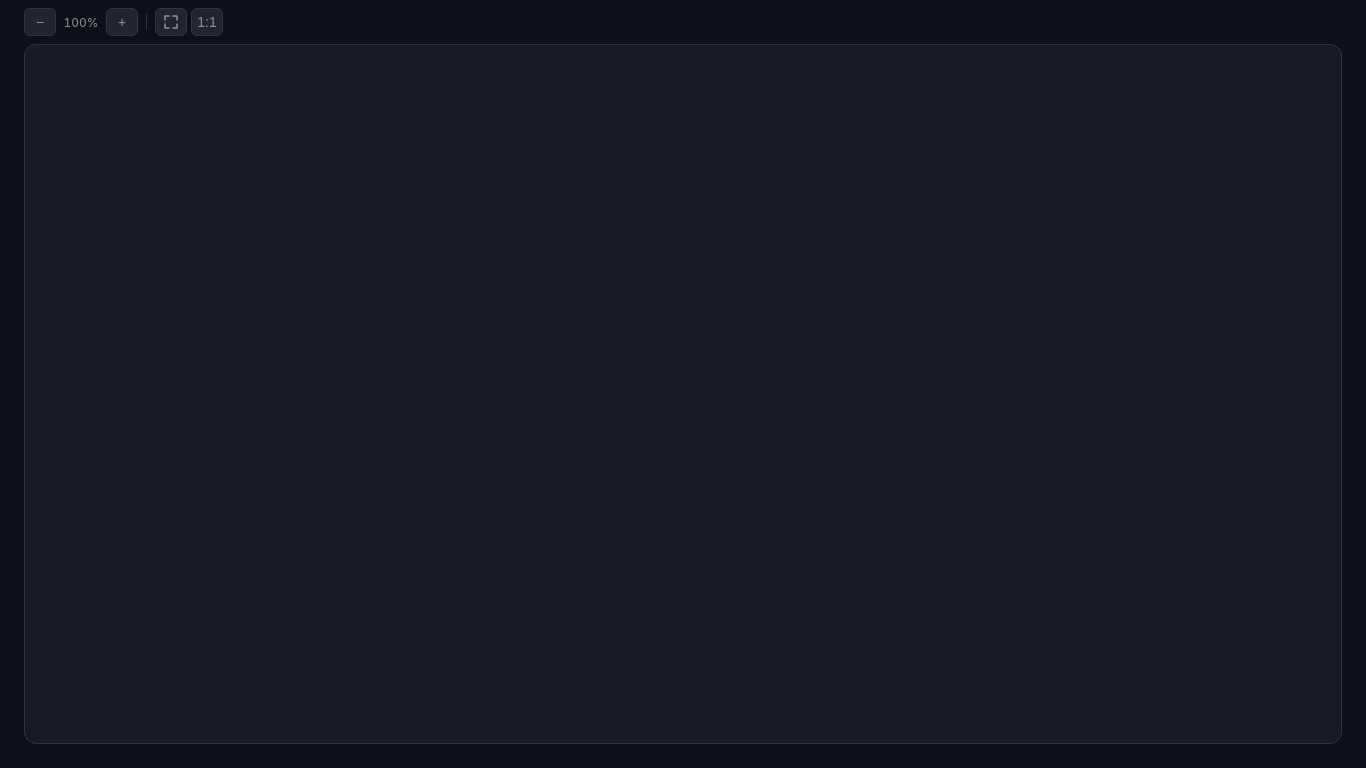
Test case: Diagram › reset button returns to 100%
This screenshot has width=1366, height=768.
Click the button titled "Zoom in" at (122, 22), box [106,8,138,36]
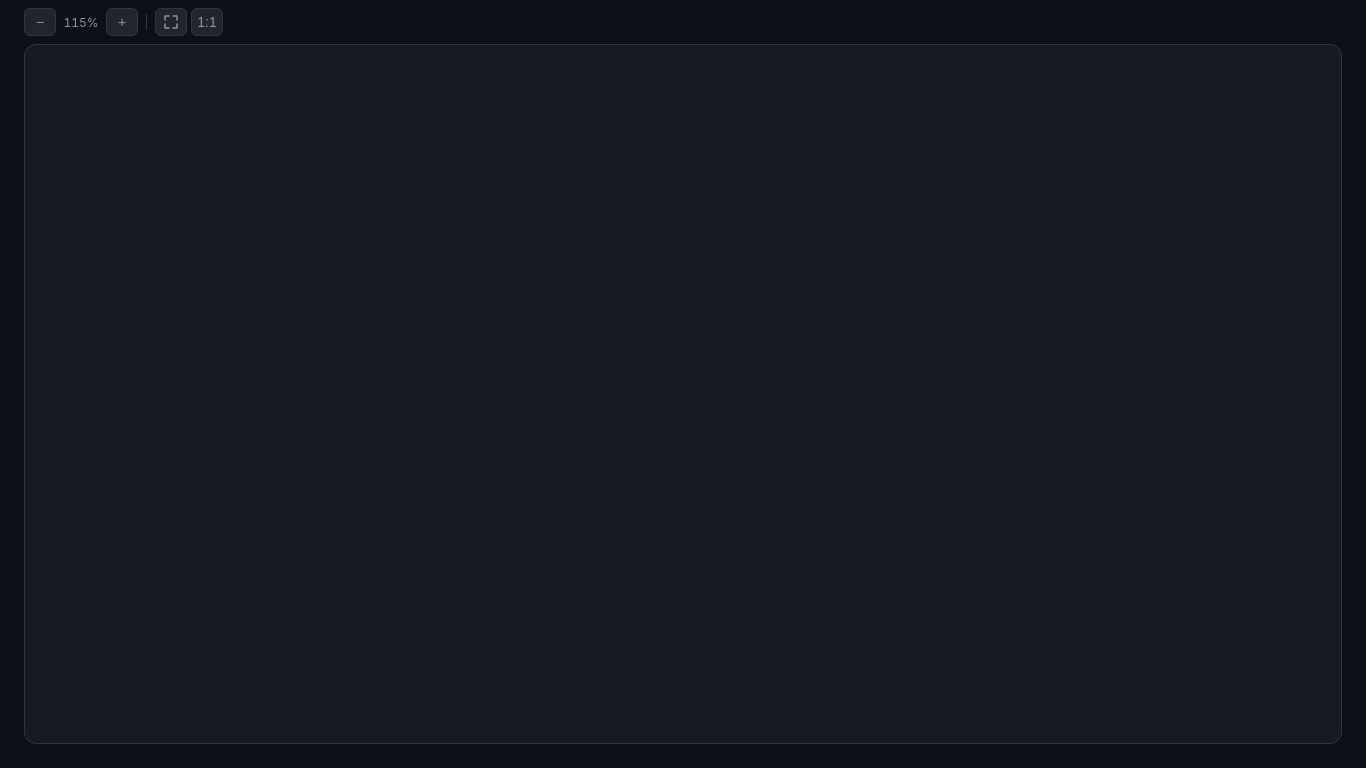
Click the button titled "Zoom in" at (122, 22), box [106,8,138,36]
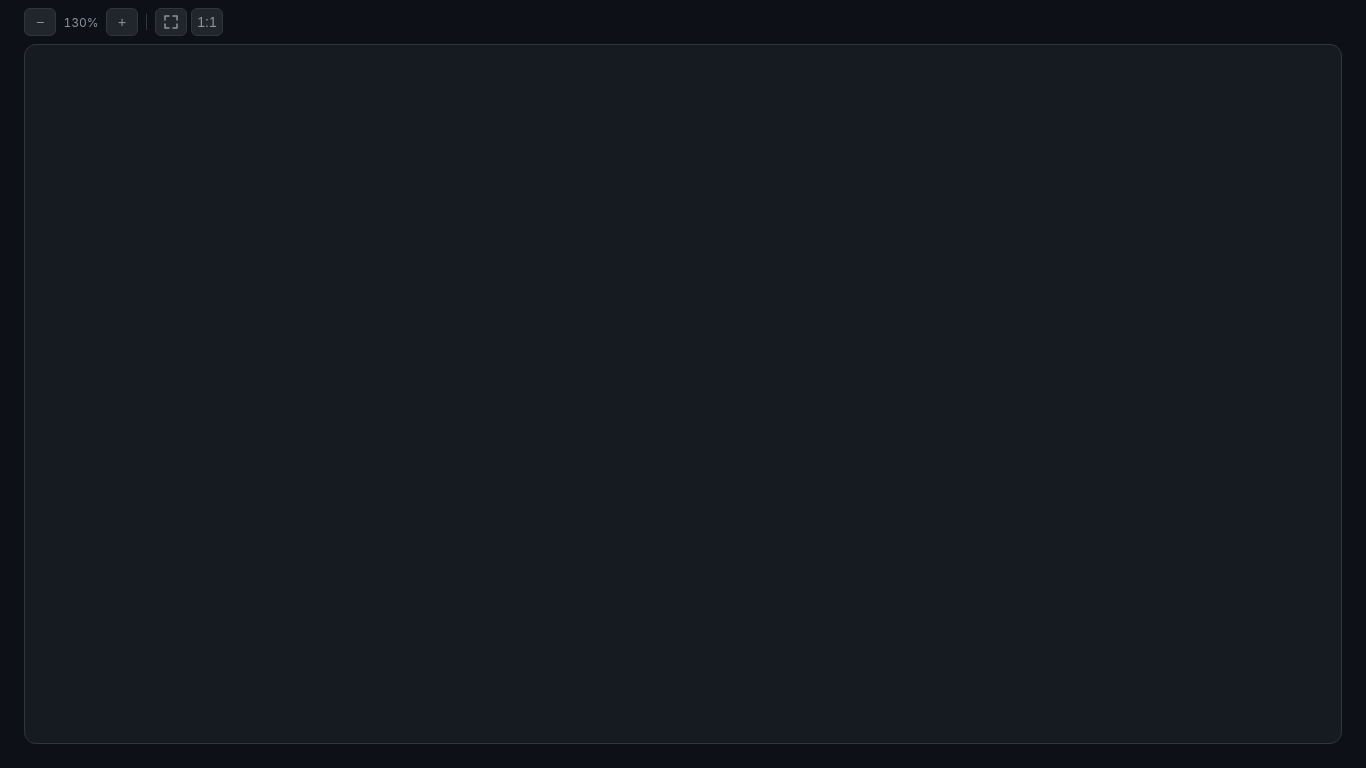
Click the button titled "Reset zoom (100%)" at (207, 22), box [191,8,223,36]
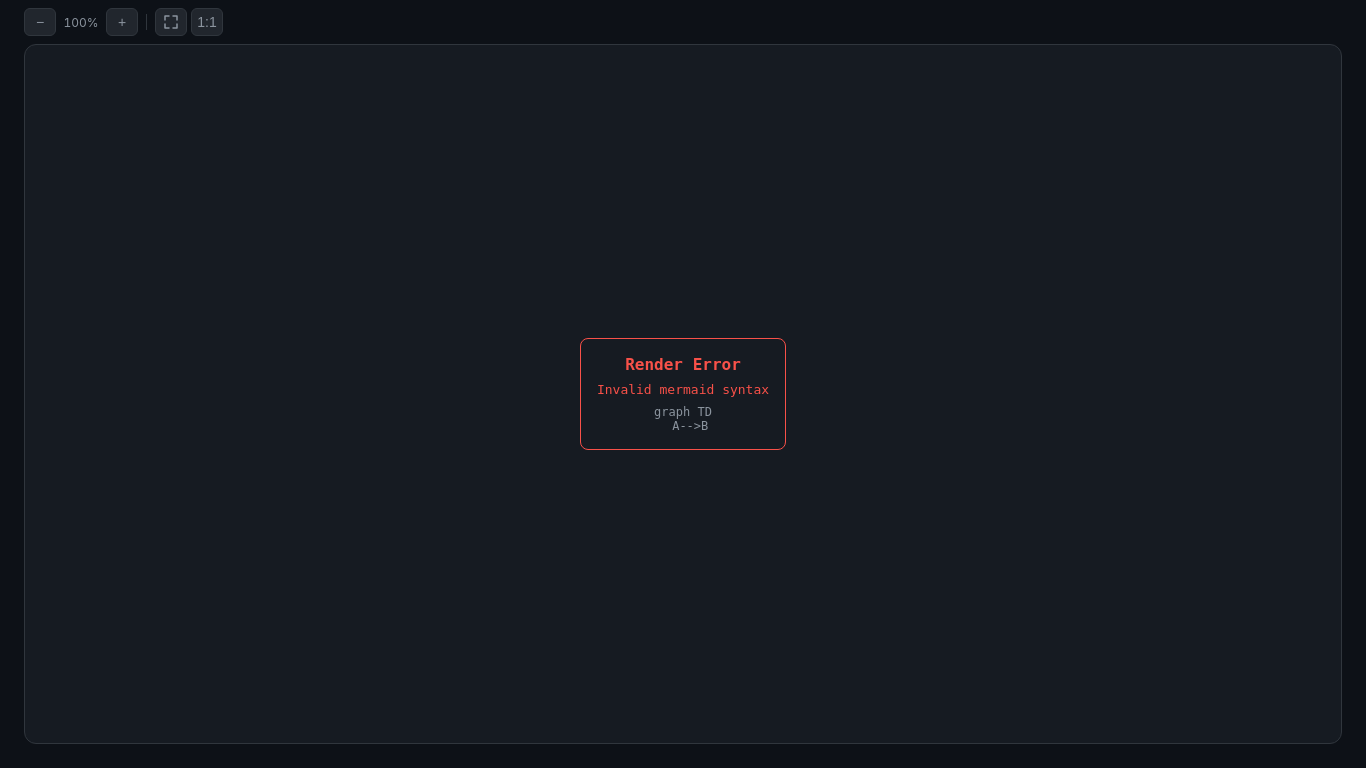
Expected: the text "100%" is shown, [63,14,98,30]
